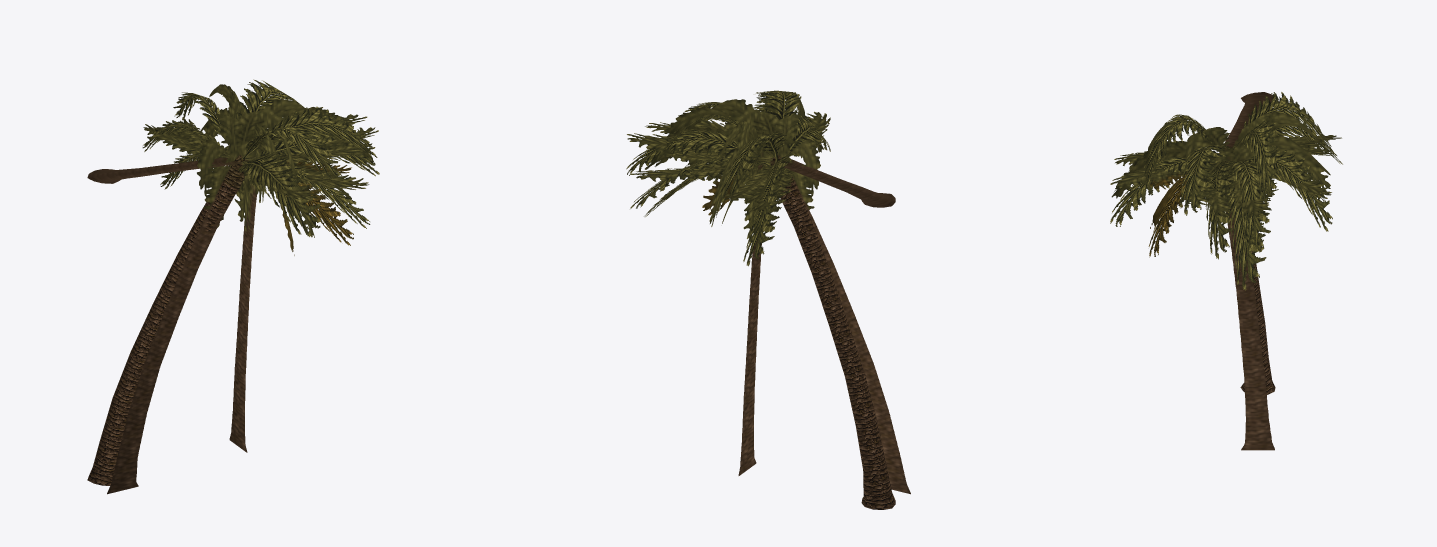
Rendered from Palmeira_02_Vento_Do_Mar.glb.
The picture shows the model from 3 angles, left to right: view 1: azimuth 30°, elevation 25°; view 2: azimuth 150°, elevation 25°; view 3: azimuth 270°, elevation 25°; orthographic projection. The views are drawn at different scales.
Visible parts, largest first — view 1: Palmeira_02_Vento_Do_Mar impostor, Caule, Folhas abertas, Folhas novas, Folhas inferiores; view 2: Palmeira_02_Vento_Do_Mar impostor, Caule, Folhas abertas, Folhas novas, Folhas inferiores; view 3: Palmeira_02_Vento_Do_Mar impostor, Folhas abertas, Folhas novas, Folhas inferiores, Caule.
Boxes of the visible parts, <box> form: Palmeira_02_Vento_Do_Mar impostor: <box>87,84,378,494</box>; Caule: <box>87,182,238,485</box>; Folhas abertas: <box>142,120,379,237</box>; Folhas novas: <box>173,79,375,179</box>; Folhas inferiores: <box>160,153,353,245</box>; Palmeira_02_Vento_Do_Mar impostor: <box>627,92,910,494</box>; Caule: <box>780,181,895,509</box>; Folhas abertas: <box>626,109,830,239</box>; Folhas novas: <box>660,90,801,203</box>; Folhas inferiores: <box>644,169,793,266</box>; Palmeira_02_Vento_Do_Mar impostor: <box>1110,92,1341,450</box>; Folhas abertas: <box>1110,109,1342,259</box>; Folhas novas: <box>1143,92,1335,215</box>; Folhas inferiores: <box>1148,160,1325,290</box>; Caule: <box>1240,251,1275,394</box>.
Size of what is drawn, in the model's own units: 10.09 by 10.09 by 10.09.
3 materials, 3 textured.
